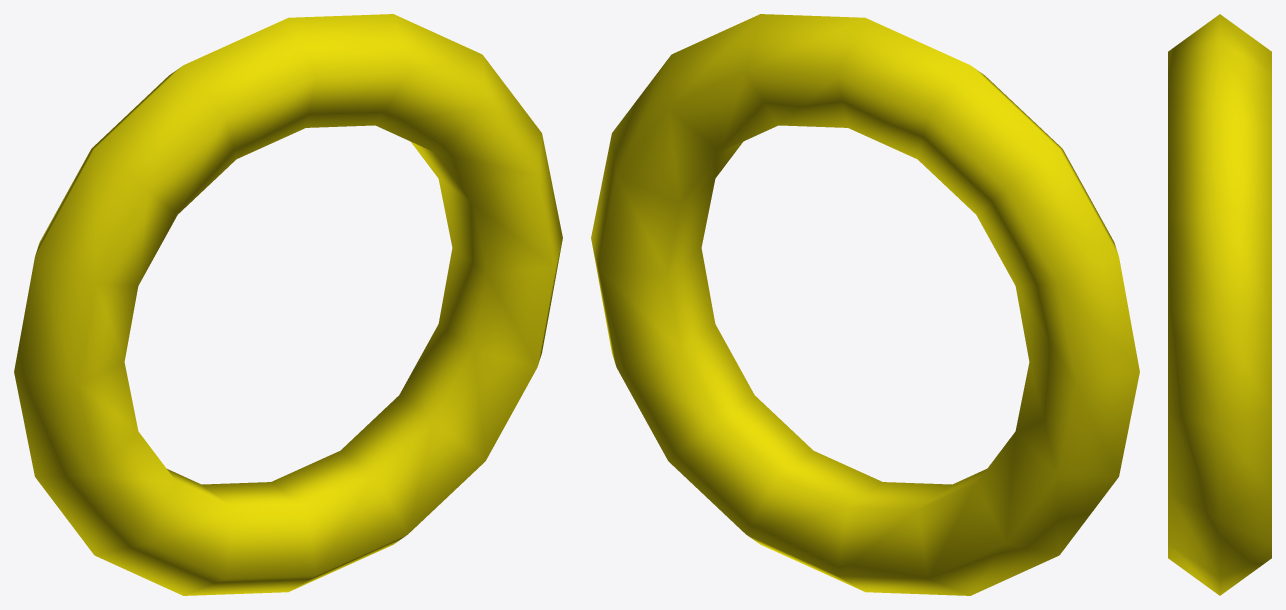
File: Big Ring.fbx
3 views of the same model, side by side, from view 1: azimuth 30°, elevation 25°; view 2: azimuth 150°, elevation 25°; view 3: azimuth 270°, elevation 25° (orthographic). The views are drawn at different scales.
Parts seen in each view (by area): view 1: Big Ring.001; view 2: Big Ring.001; view 3: Big Ring.001.
Boxes of the visible parts, box(x1,y1,x2,y2) form: Big Ring.001: box(14, 14, 562, 595); Big Ring.001: box(591, 14, 1139, 595); Big Ring.001: box(1168, 14, 1271, 595).
Size of the model in its own units: 2.3 by 2.3 by 0.4098.
